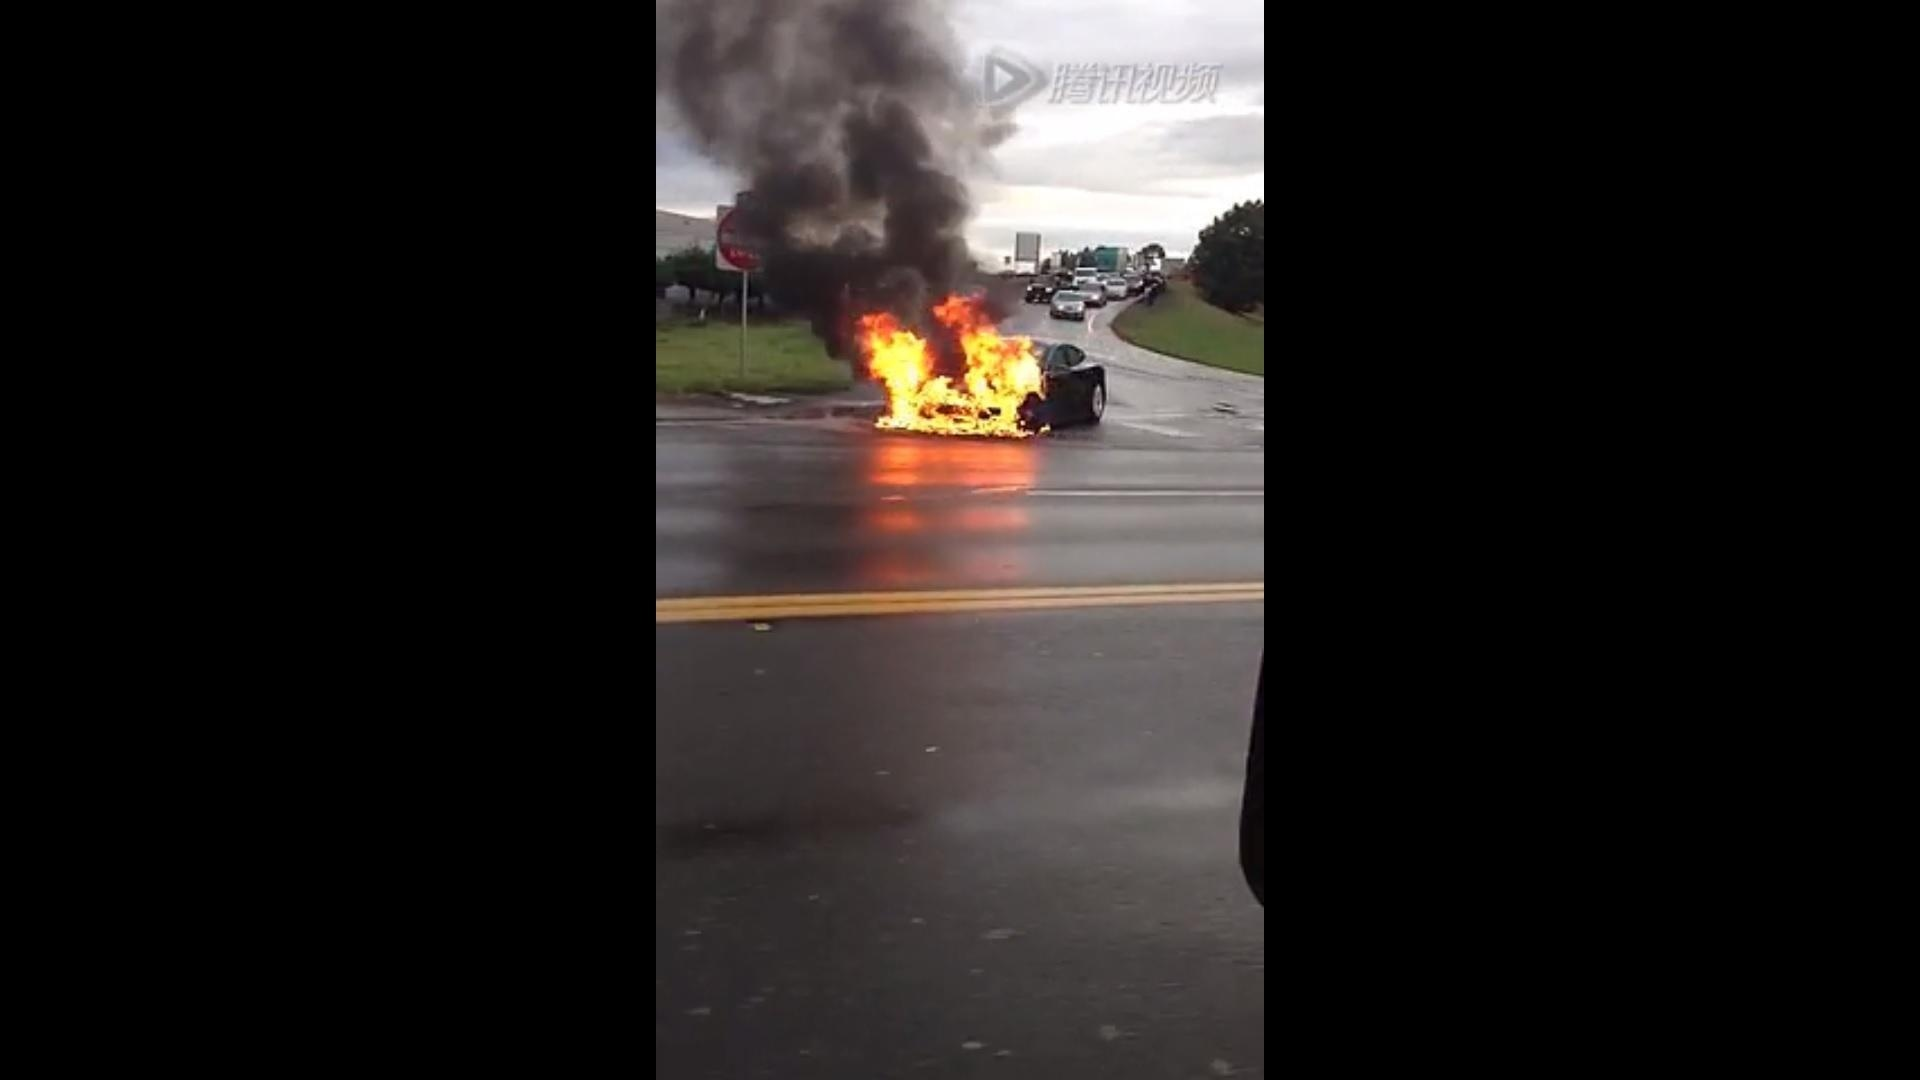fire: (858, 302, 1046, 439)
